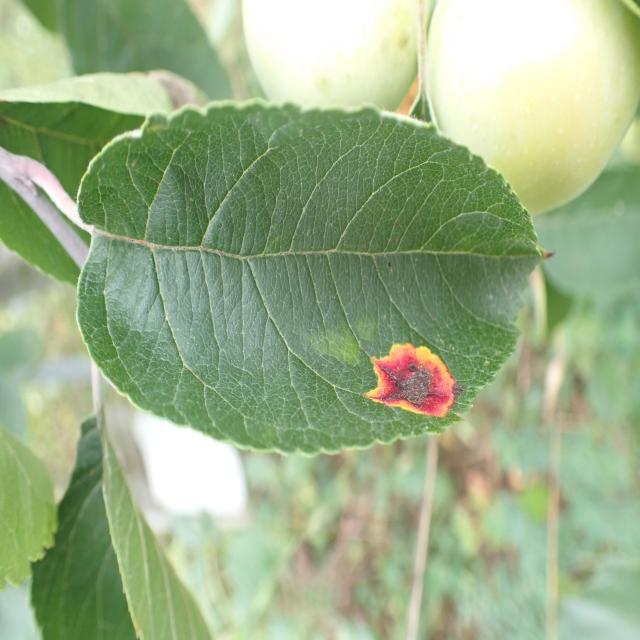Rust: (363, 328, 461, 431)
